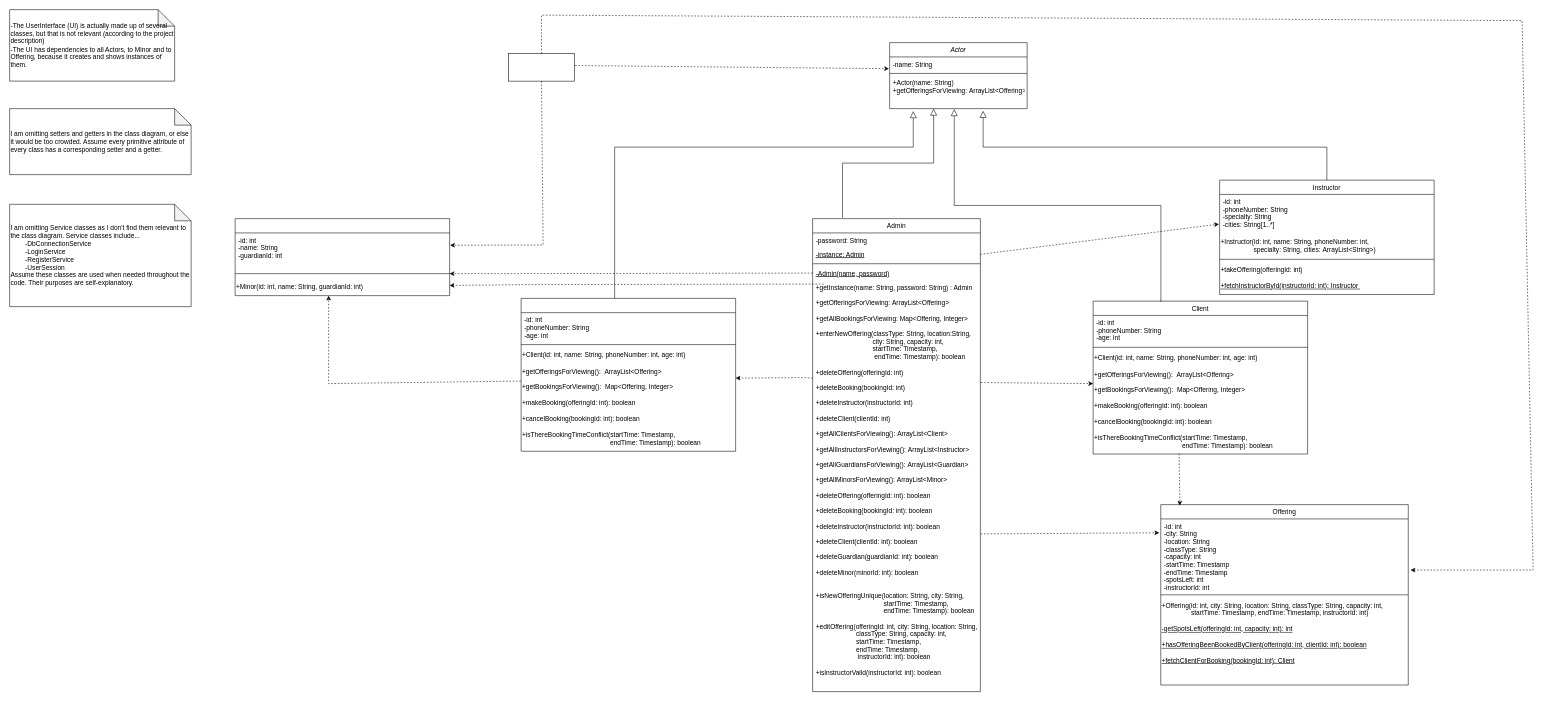
The diagram is 1547 pixels wide and 701 high, and some of its shapes have lost their labels. The box of each missing label's shape, as (x1, y1, x2, y2) in pixels:
Guardian (MAY NEED TO EDIT THIS): (521, 298, 736, 451)
Minor (MAY NEED TO EDIT THIS): (235, 218, 450, 296)
UserInterface: (508, 53, 574, 81)
